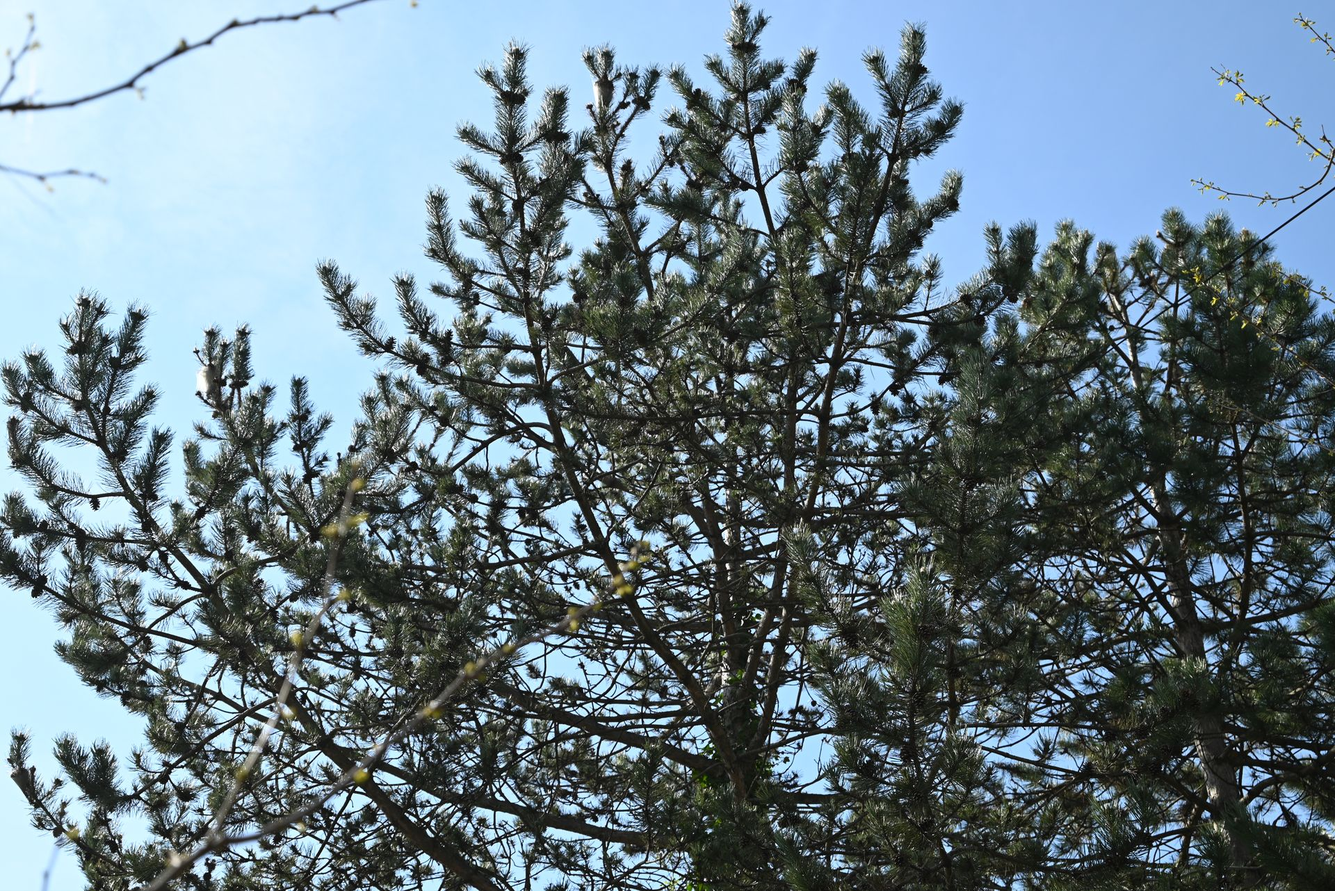thaumatopoea pityocampa jajno gnijezdo: (192, 360, 227, 403)
